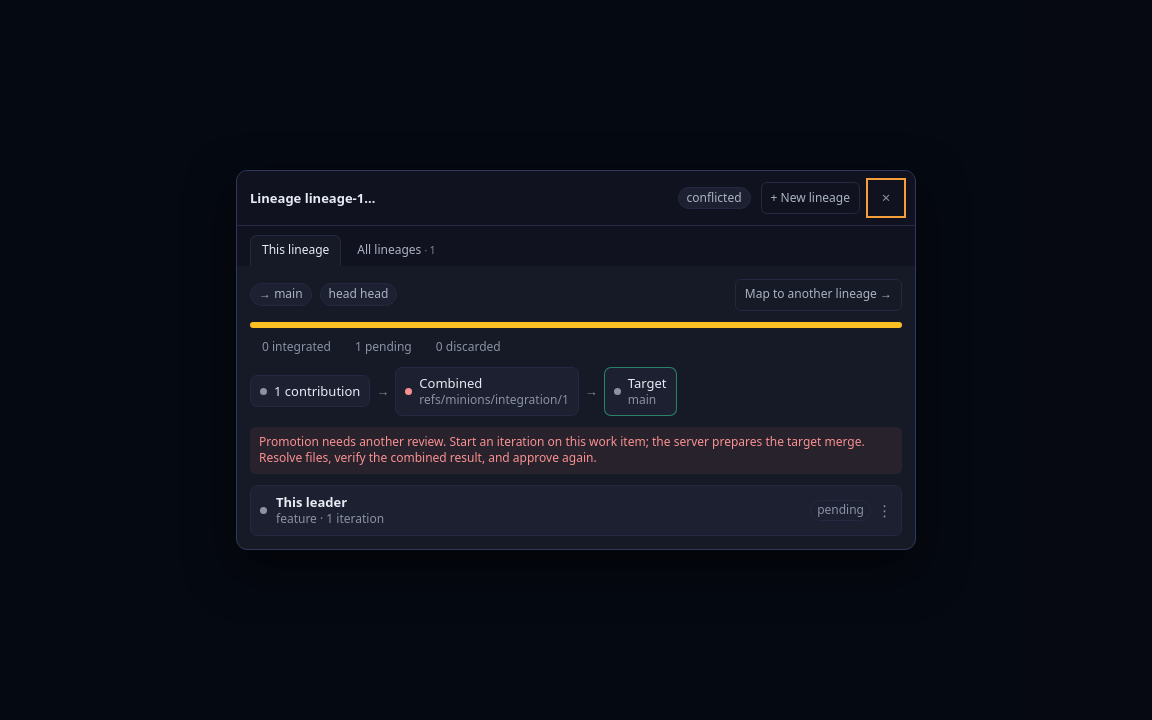
<LineageModal /> › surfaces conflict recovery and pending gates for a conflicted contribution
This screenshot has width=1152, height=720.
Expected: the message shows "Promotion needs another review", [259,432,865,466]
Click the text "This leader" at coordinates (312, 502), box [276,493,347,511]
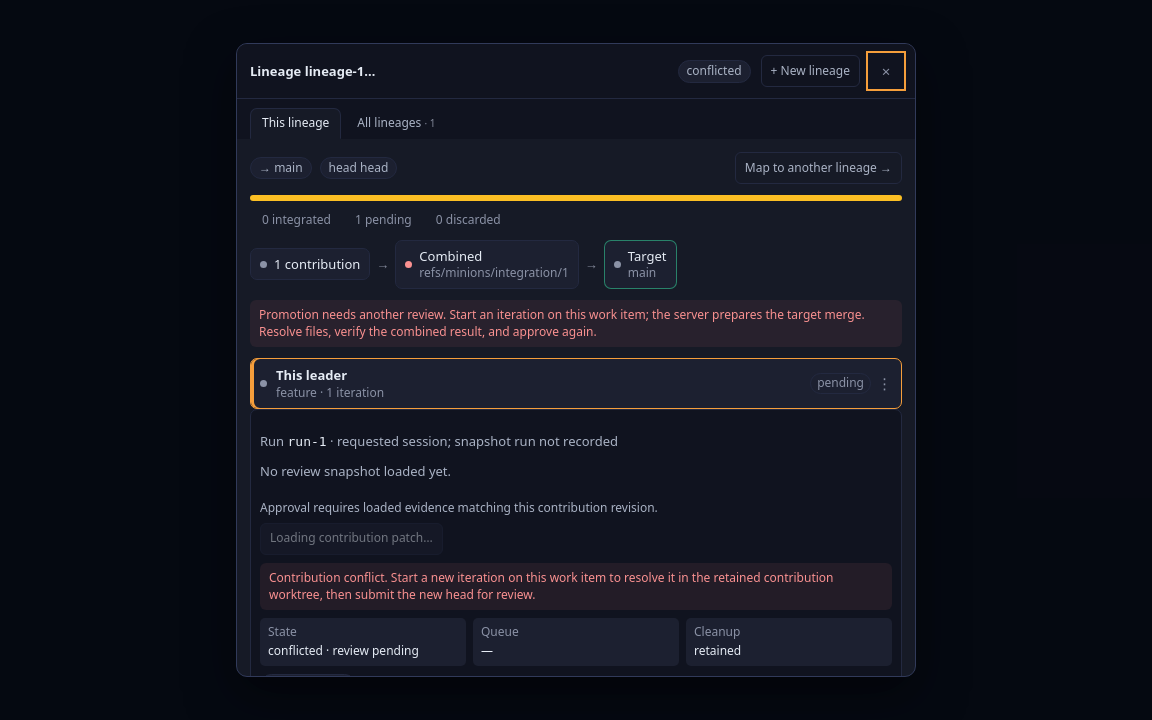
Expected: the text "Start a new iteration" is shown, [269,569,834,603]
